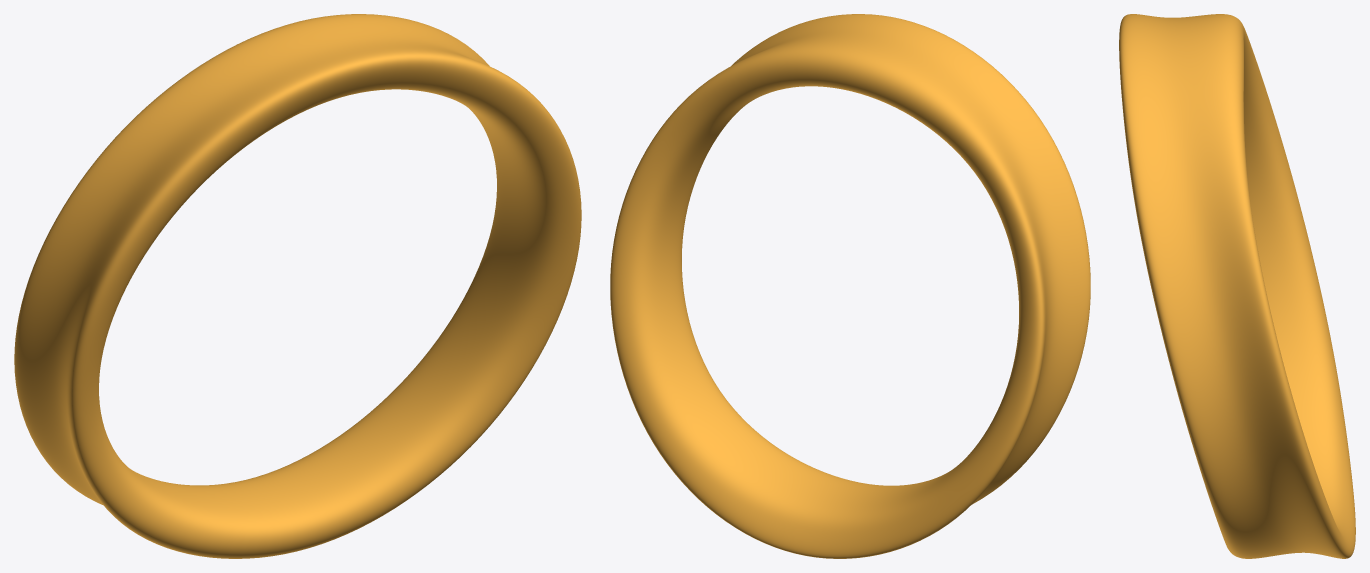
The model's file is disc_gltf.glb.
The picture shows the model from 3 angles, left to right: view 1: azimuth 30°, elevation 25°; view 2: azimuth 150°, elevation 25°; view 3: azimuth 270°, elevation 25°; orthographic projection. The views are drawn at different scales.
Visible parts, largest first — view 1: Ring; view 2: Ring; view 3: Ring.
Part boxes in pixels (left/top/right/bottom): Ring: left=14, top=14, right=581, bottom=558; Ring: left=610, top=14, right=1090, bottom=558; Ring: left=1119, top=14, right=1355, bottom=558.
Size of the model in its own units: 0.0238 by 0.0243 by 0.0105.
